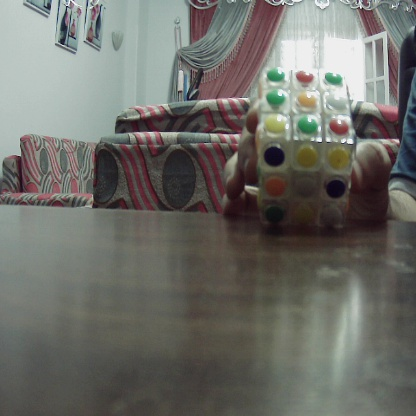Rubix Cube: (254, 60, 352, 228)
